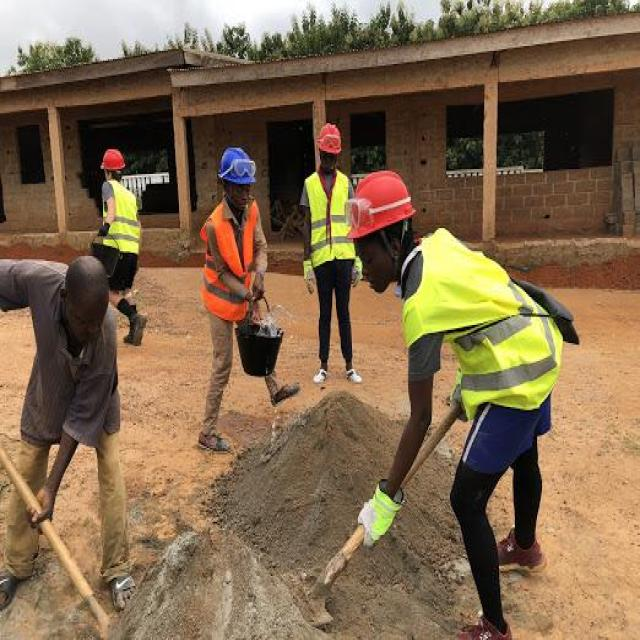boots: (486, 529, 545, 582), (456, 616, 516, 640)
gloves: (356, 486, 401, 555), (348, 262, 361, 288), (99, 218, 112, 236), (305, 268, 311, 303)
hardhat: (349, 180, 420, 238), (222, 145, 256, 187), (320, 120, 345, 155), (101, 149, 125, 172)
no_gloves: (28, 478, 56, 530), (253, 273, 263, 301)
no_hardhat: (66, 252, 107, 350)
no_vest: (0, 250, 125, 438)
person: (349, 169, 562, 640), (0, 253, 139, 618), (200, 145, 301, 450), (302, 123, 369, 386), (101, 148, 149, 345)
vest: (404, 229, 561, 415), (200, 201, 268, 323), (301, 166, 360, 260), (102, 179, 143, 262)
